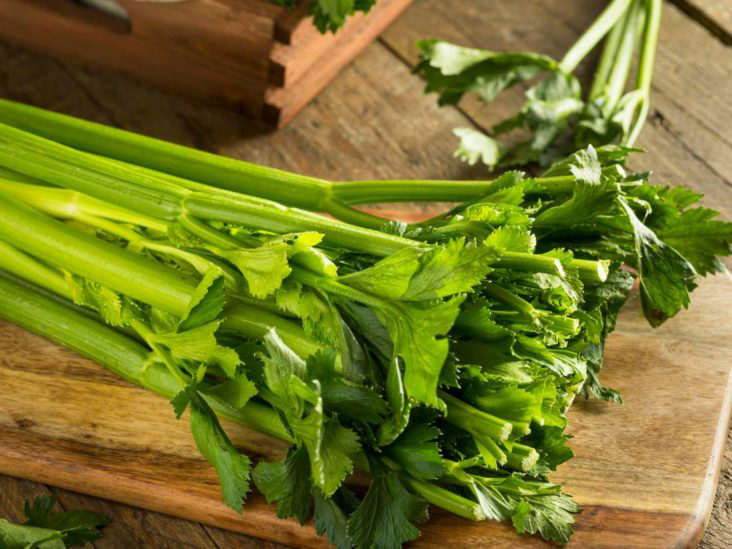Seledri: (9, 87, 672, 537)
